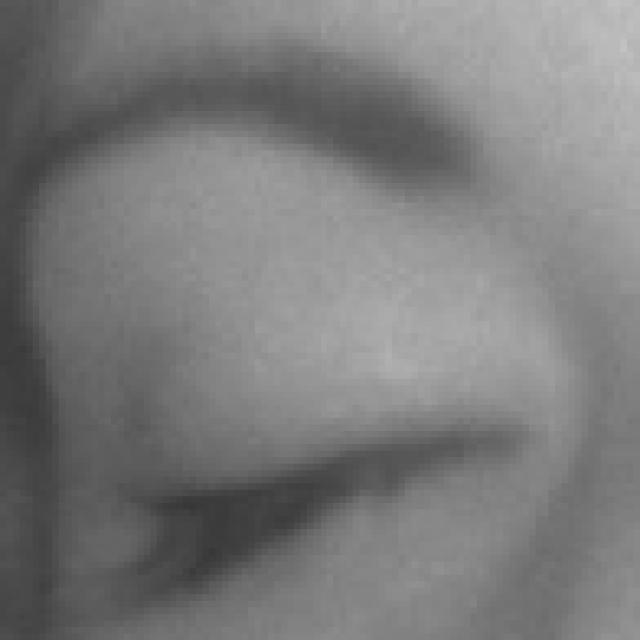close: (0, 55, 640, 593)
